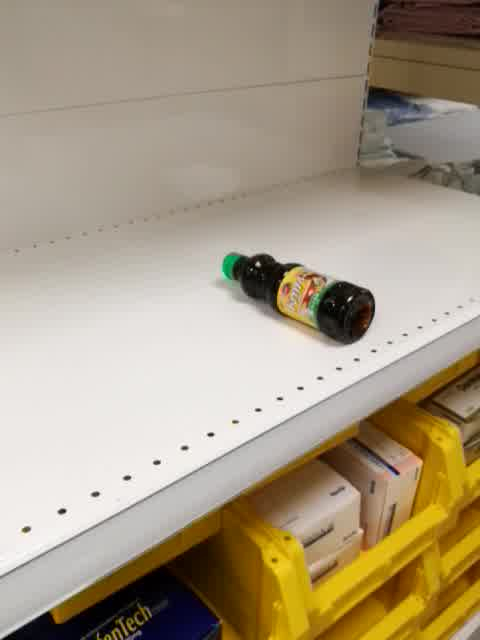cookingoil: (222, 251, 376, 347)
